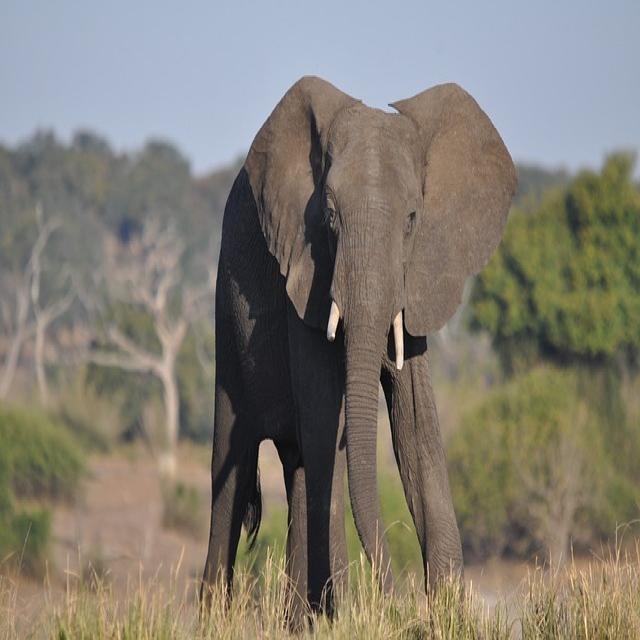FIL: (193, 65, 520, 640)
